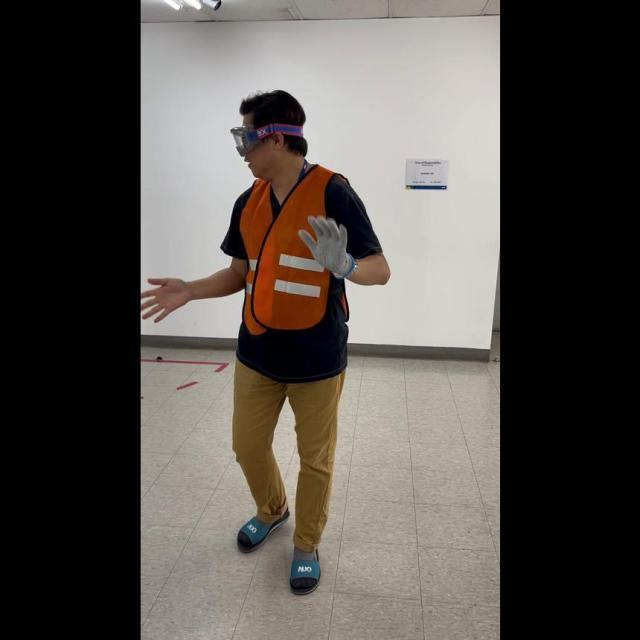bare_hand: (140, 272, 192, 322)
gloved_hand: (295, 208, 354, 278)
